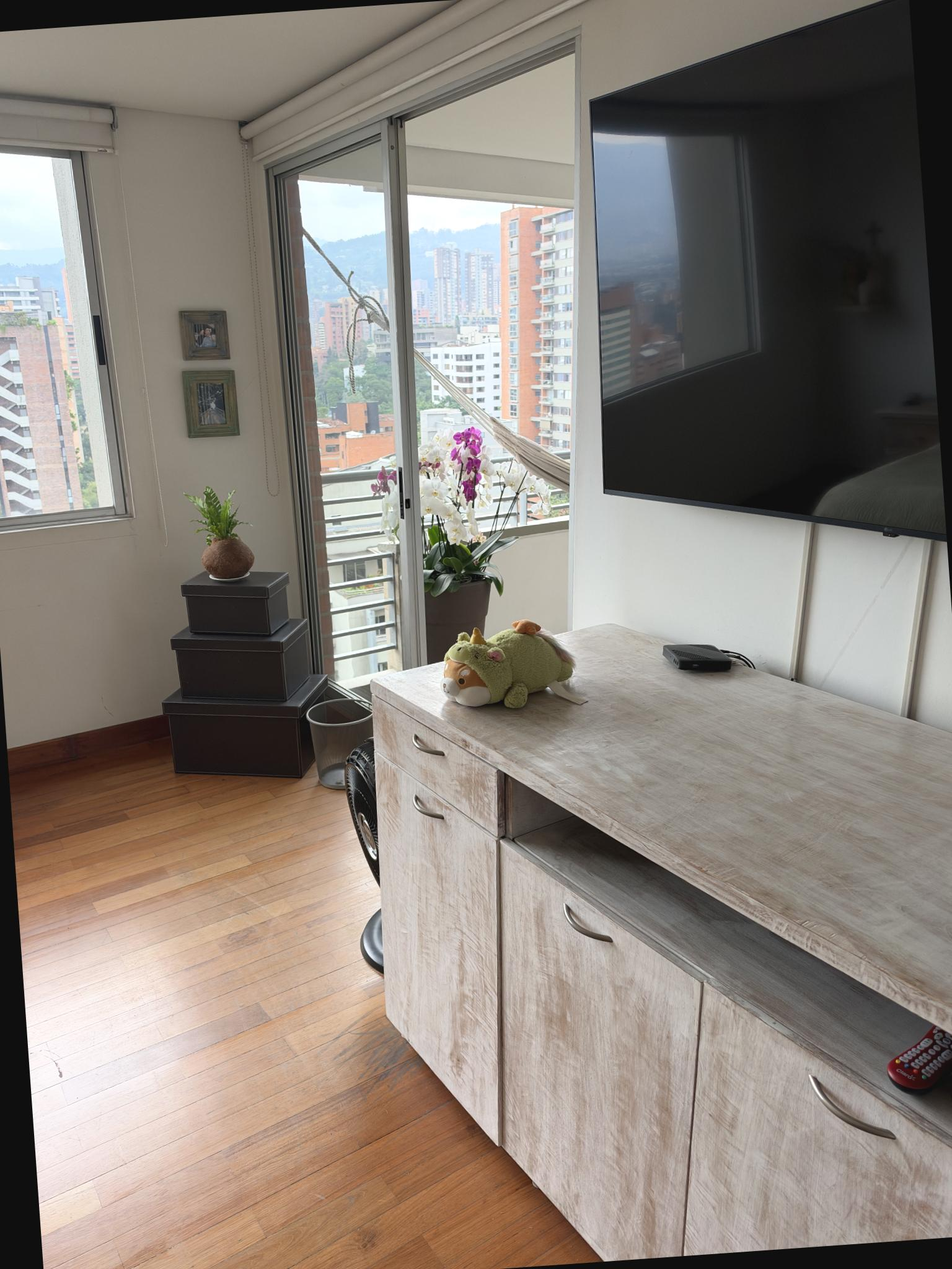peluche_martin: (435, 616, 579, 714)
